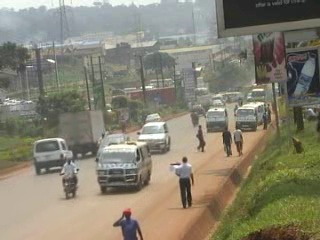Car: (29, 137, 81, 176), (91, 130, 132, 167), (134, 120, 171, 153), (139, 111, 164, 124), (188, 102, 206, 114), (211, 99, 228, 111)
Motorcycle: (58, 161, 80, 200), (188, 110, 201, 127), (96, 132, 105, 148)
